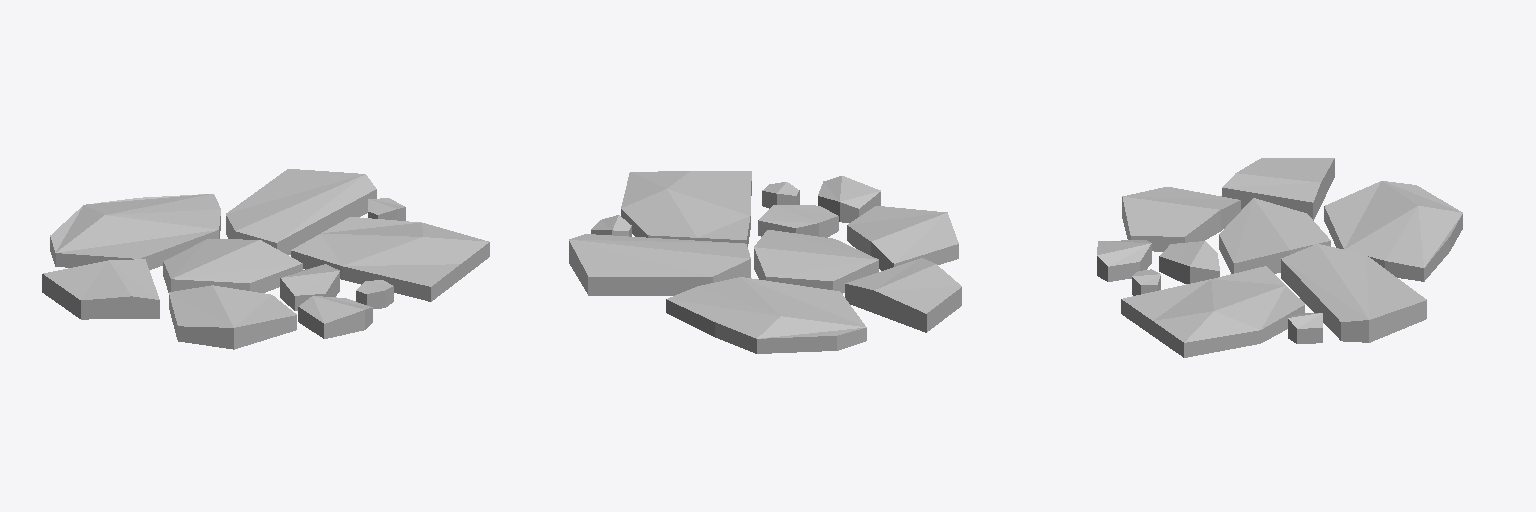
File: cailloux_sol1.obj
The picture shows the model from 3 angles: view 1: azimuth 30°, elevation 25°; view 2: azimuth 150°, elevation 25°; view 3: azimuth 270°, elevation 25°; orthographic projection.
Parts seen in each view (by area): view 1: lilC:Path; view 2: lilC:Path; view 3: lilC:Path.
Boxes of the visible parts, x1,y1,x2,y2 form: lilC:Path: [42, 169, 489, 349]; lilC:Path: [569, 171, 961, 353]; lilC:Path: [1097, 158, 1462, 357].
Bounding box in the file's own units: 1.41 × 0.0833 × 1.21.